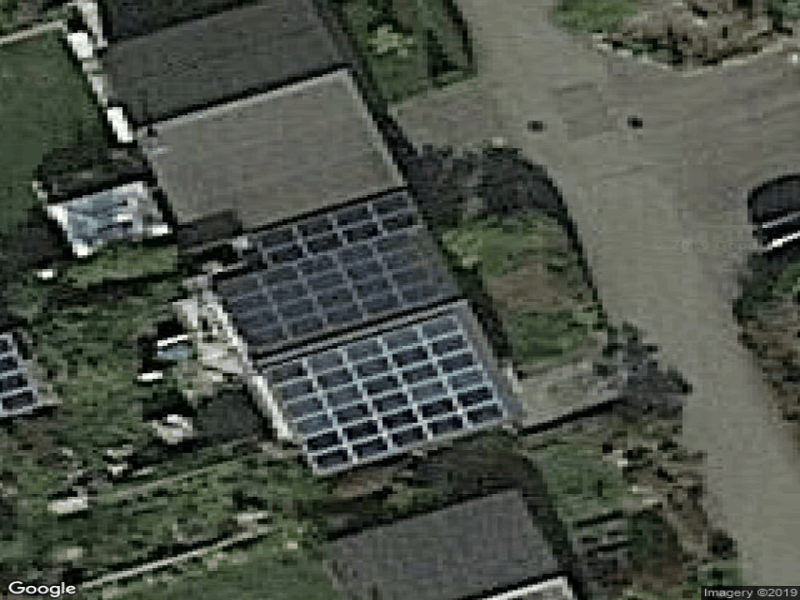pv: (212, 191, 510, 472), (1, 340, 36, 412)
